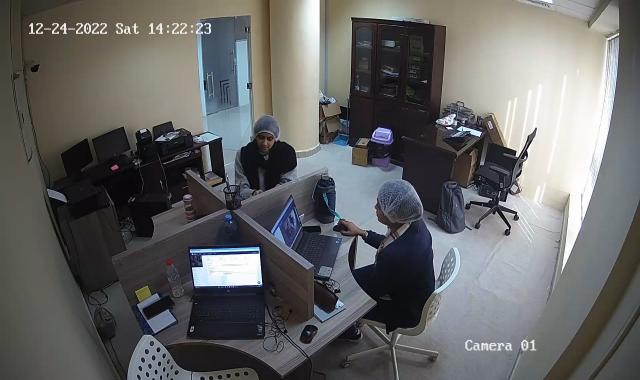hairnet: (373, 179, 423, 233), (252, 115, 282, 148)
